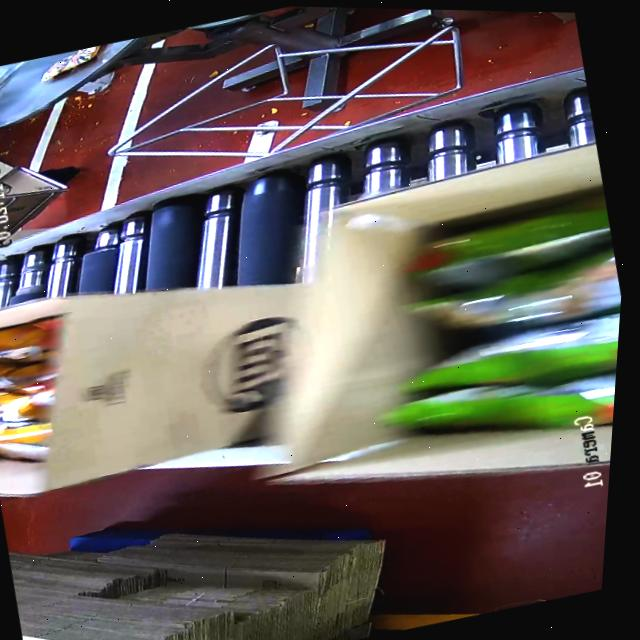FRENCH_CHEESE: (0, 316, 73, 474)
YOGURT_HERB: (381, 188, 628, 463)
